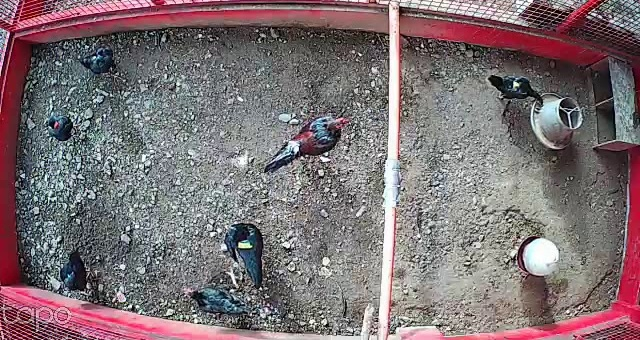Chicken: (183, 277, 260, 321), (224, 217, 269, 289), (486, 72, 547, 108), (54, 252, 94, 294), (76, 44, 121, 76), (44, 112, 79, 144)
Rooster: (261, 114, 352, 177)
Saddle_Color_Yellow: (513, 78, 520, 90)
Saddle_Color_YellowGreen: (238, 236, 253, 248)
